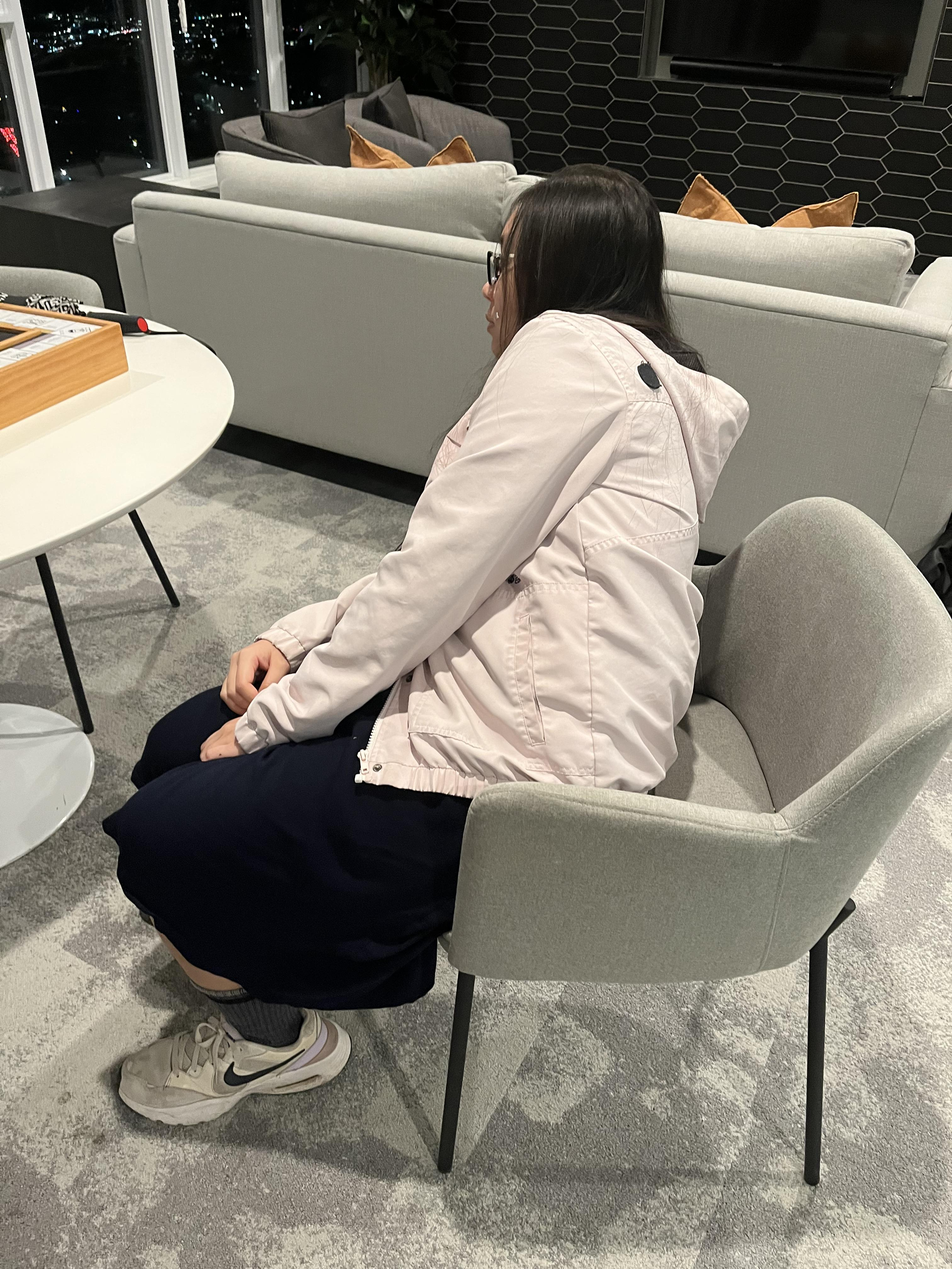BadPosture: (107, 165, 748, 1126)
